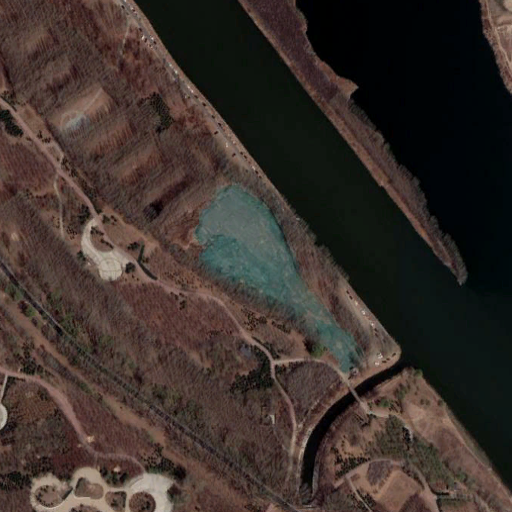cw: (193, 185, 357, 375)
